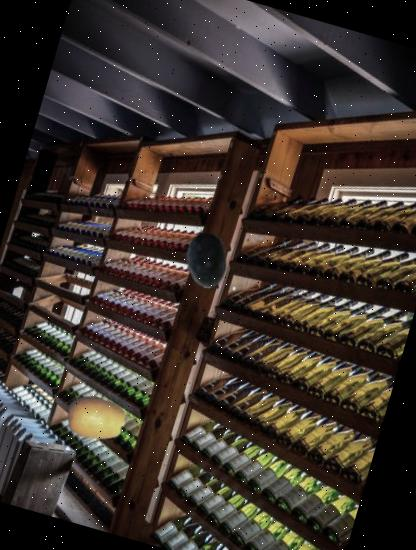Blueberry: (172, 228, 240, 294)
Kumquats: (58, 382, 132, 456)
